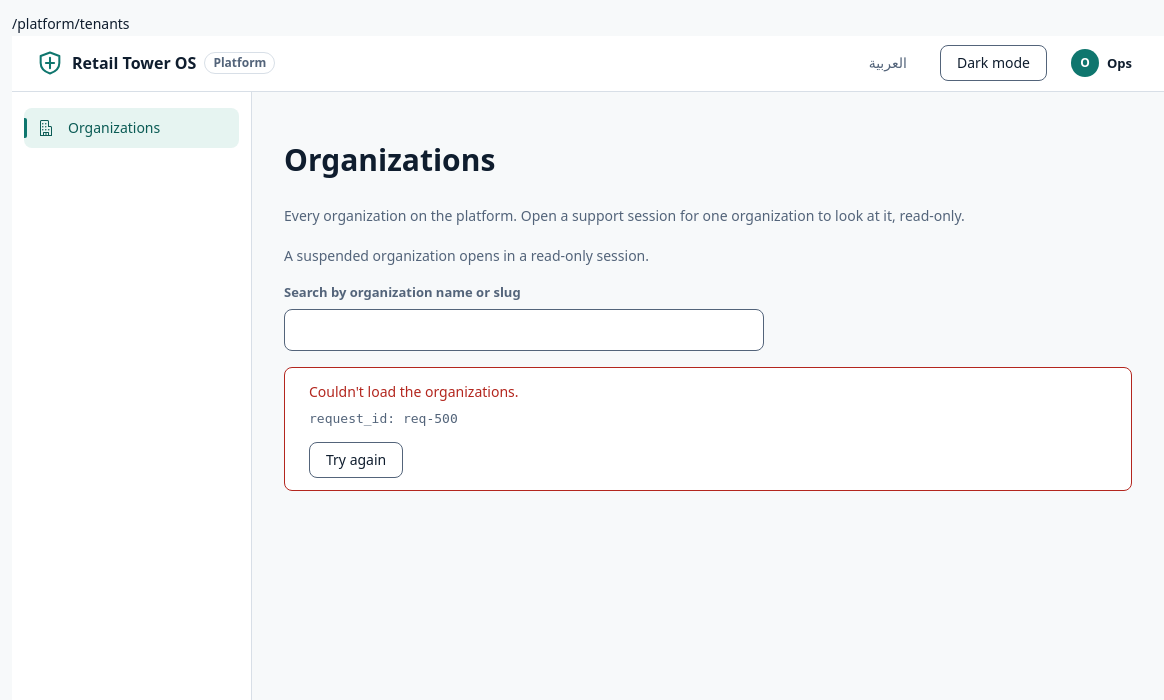
Test: directory states › error: names the failure, carries the request id and retries on demand
The width and height of the screenshot is (1164, 700).
Expected: the text "Couldn't load the organizations." is shown, [309, 382, 518, 401]
Expected: the text "req-500" is shown, [403, 411, 458, 426]
Click the button "Try again": (356, 460) [309, 442, 403, 478]
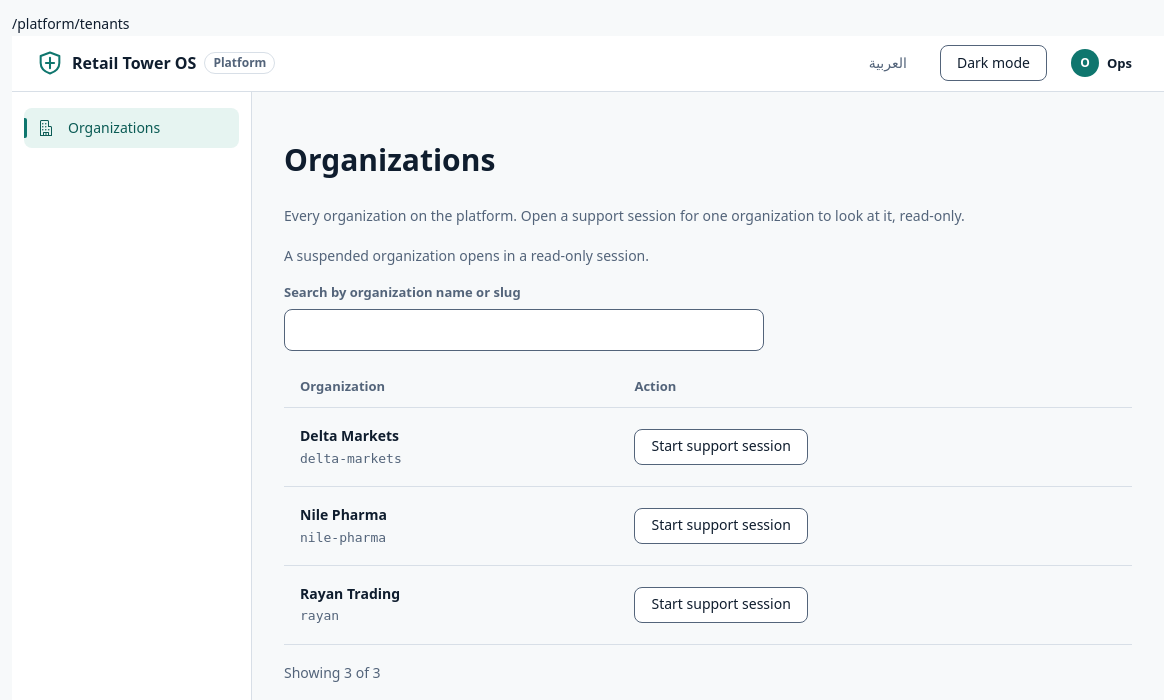
Expected: the table named "Organizations list" is shown, [284, 367, 1132, 644]
